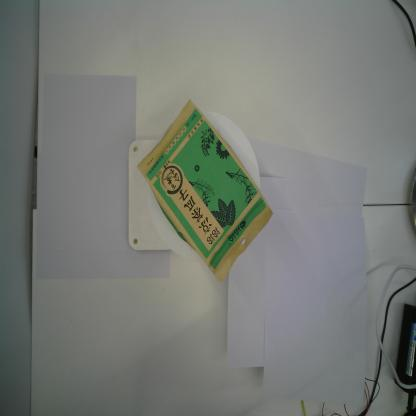Dried Food: (136, 97, 275, 285)
